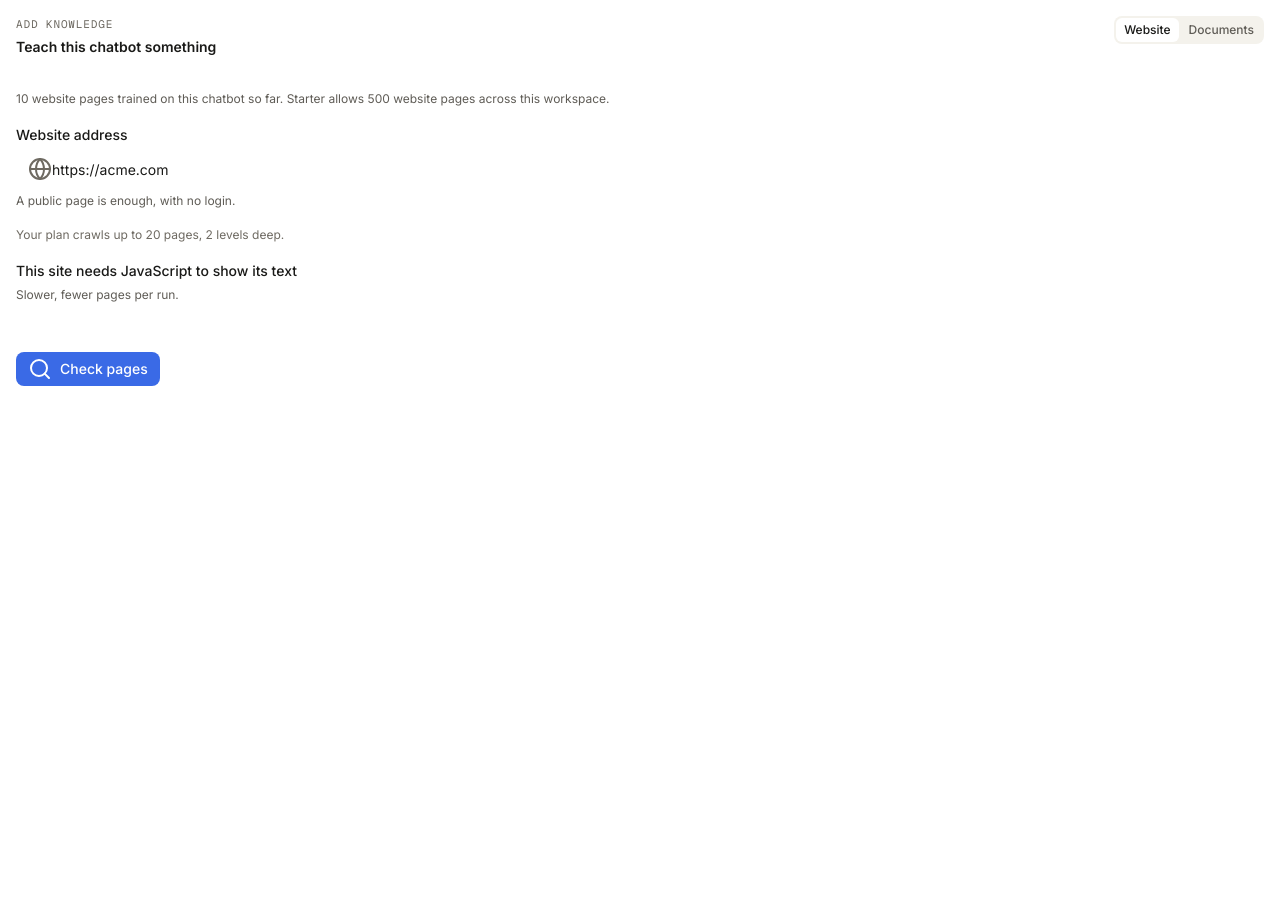
Test: AddKnowledgePanel — the website flow › will not start a crawl until the cost has been accepted
Click the button "Check pages". click: [88, 369]
box: top-left (16, 352), bottom-right (160, 386)
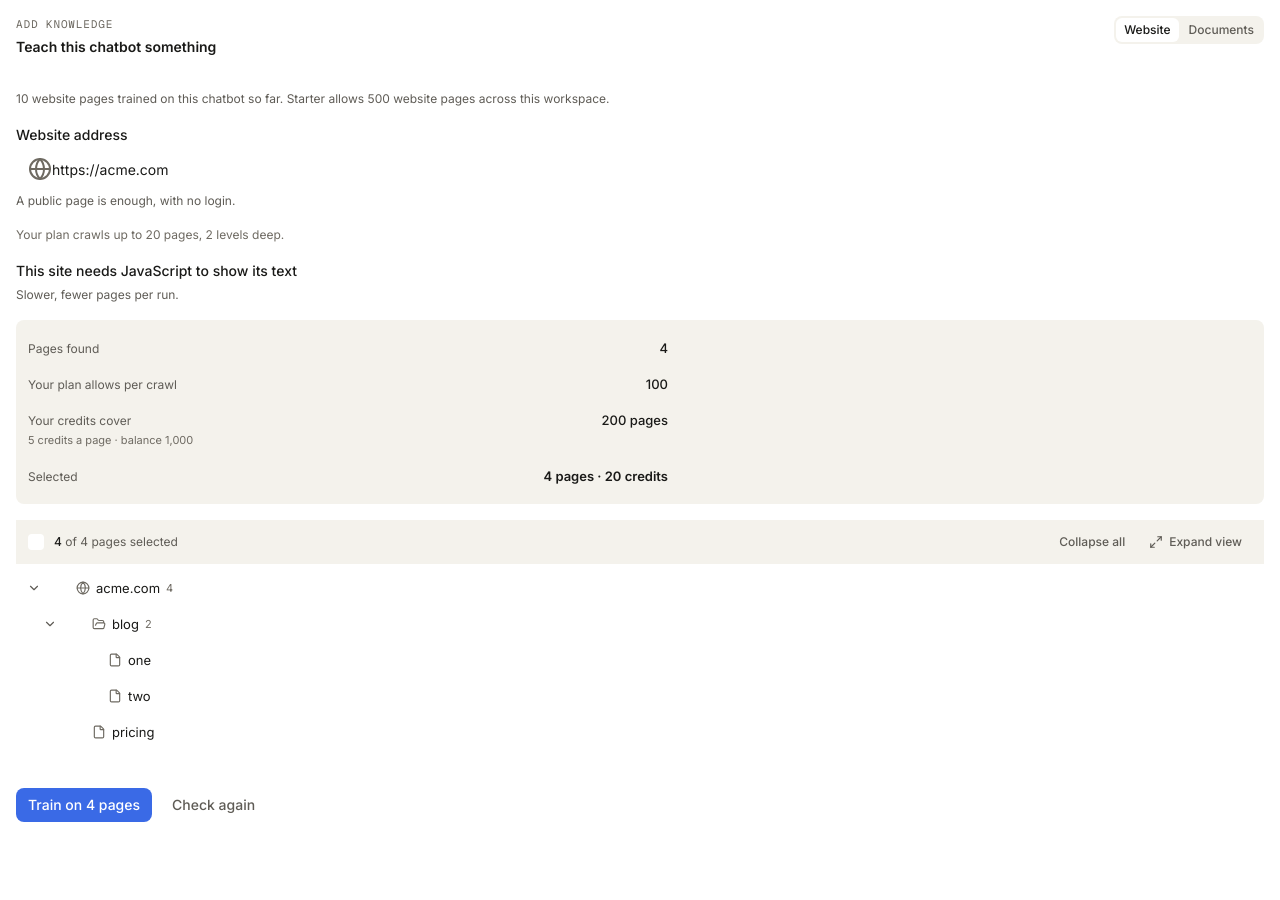
Click the button "Train on 4 pages". click: [84, 805]
box: top-left (16, 788), bottom-right (152, 822)
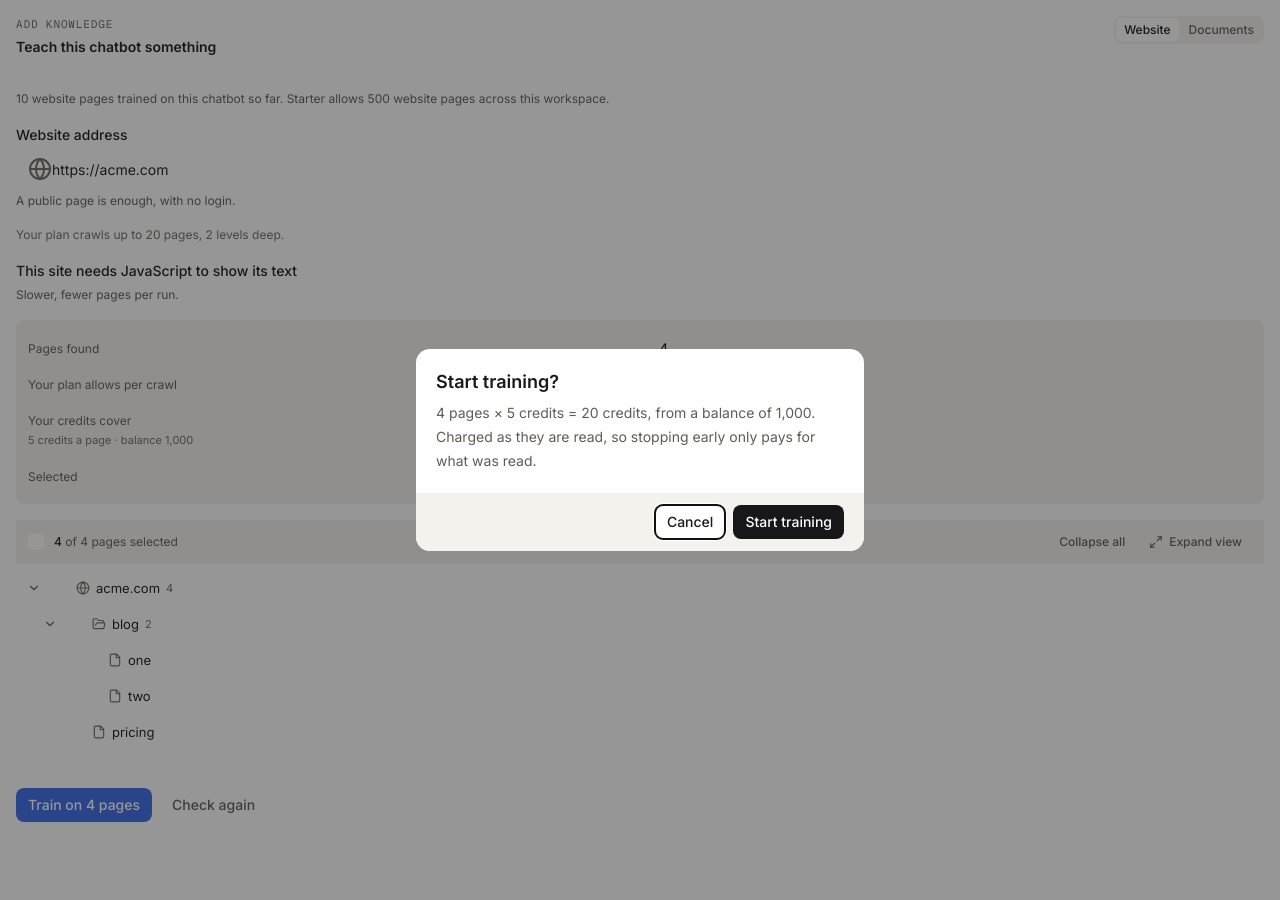
Result: the dialog shows "4 pages × 5 credits = 20 credits" at top-left (436, 404), bottom-right (815, 469)
Result: the dialog shows "balance of 1,000" at top-left (436, 404), bottom-right (815, 469)
Click the button "Cancel". click: [690, 522]
box: top-left (655, 505), bottom-right (725, 539)
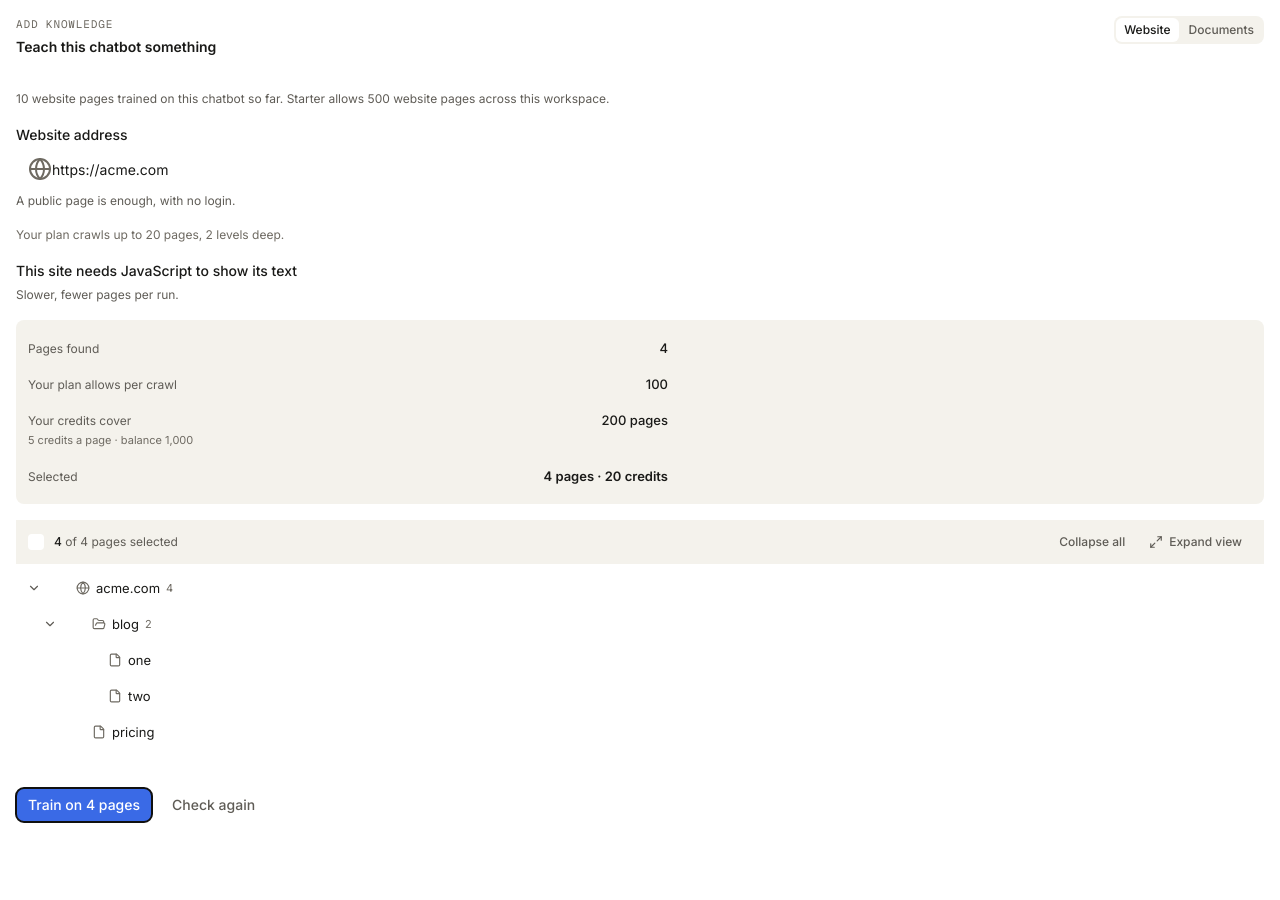
Result: the dialog is gone
